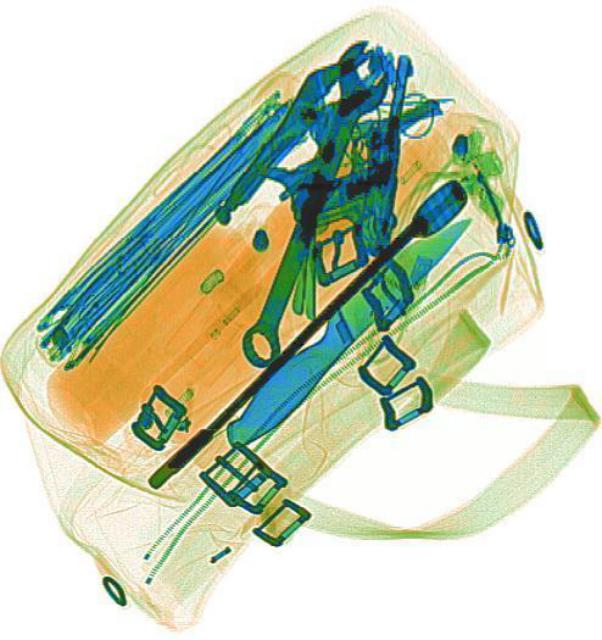Gun: (287, 42, 411, 254)
Knife: (210, 198, 484, 454)
Wrench: (217, 29, 399, 370)
